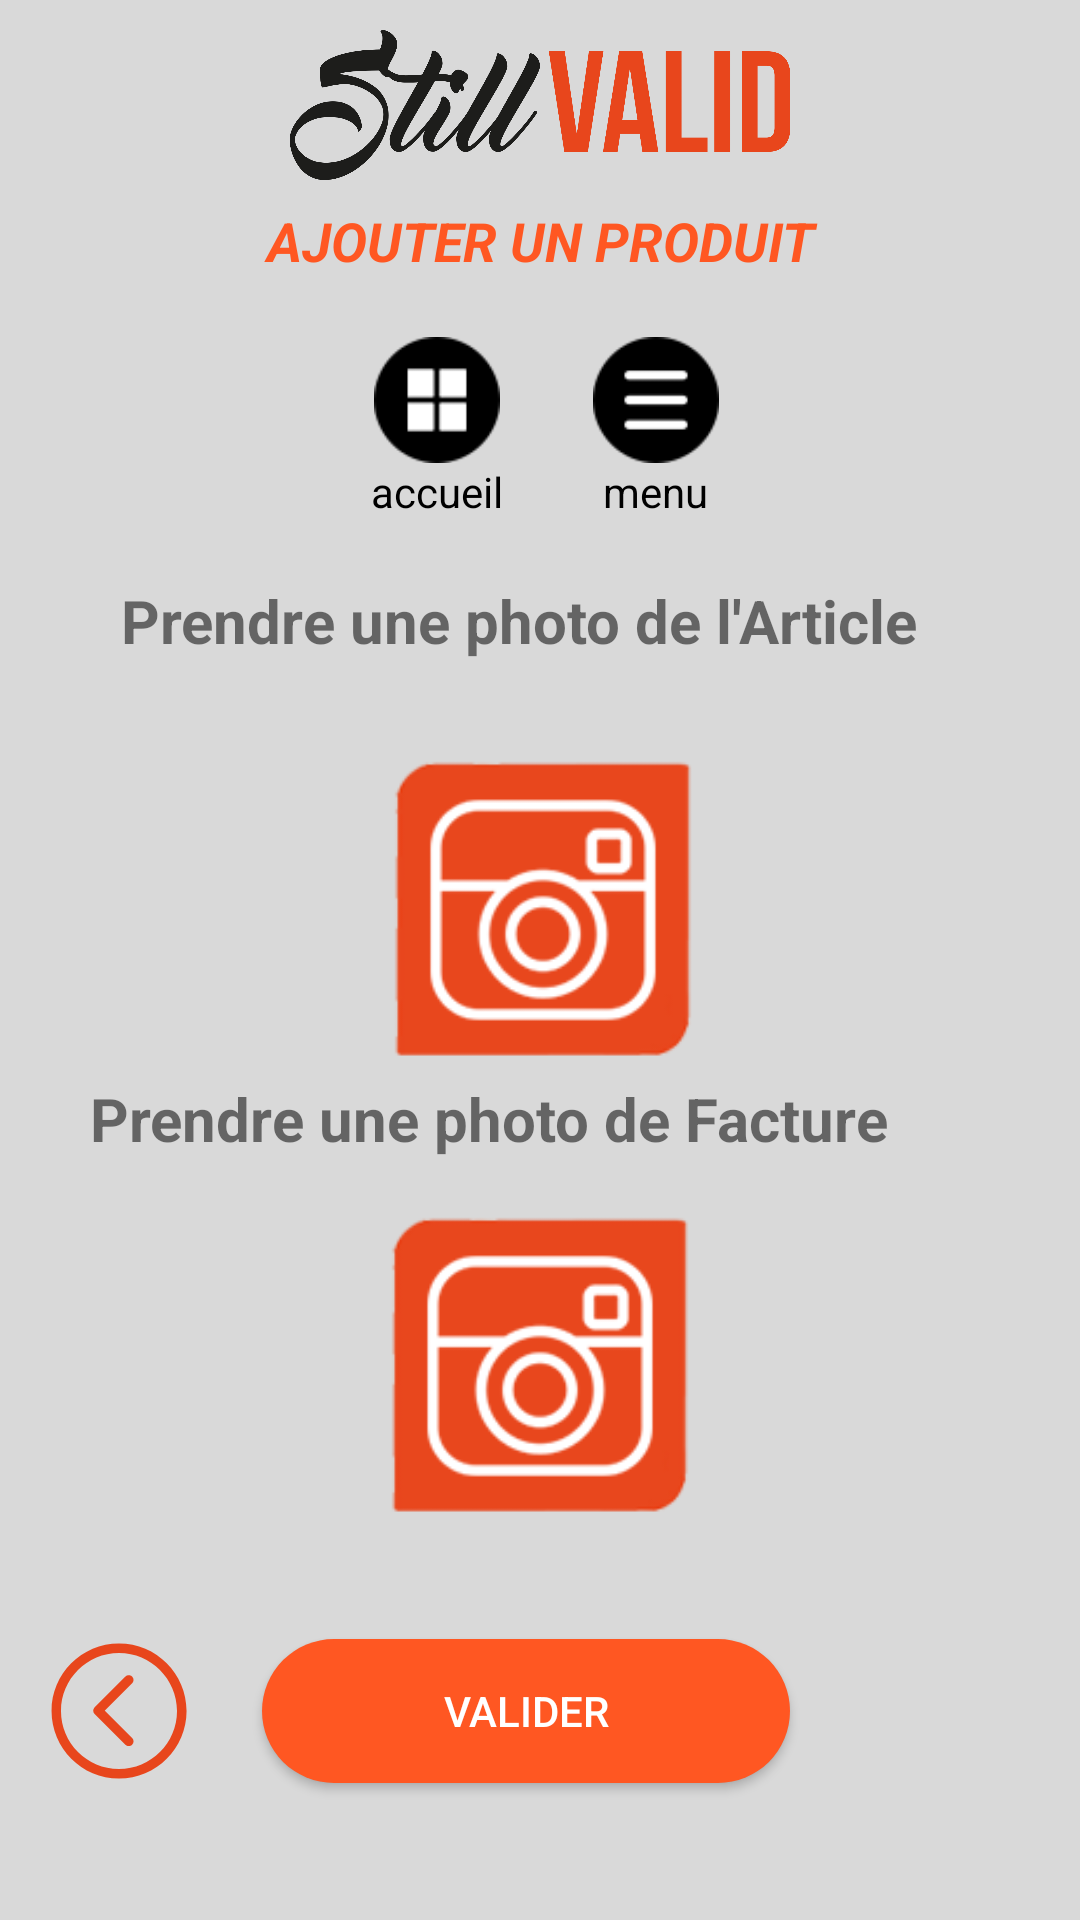

Icon click points for this 1080 × 1920 phone screenshot, format point (x, y):
left: point (119, 1711)
